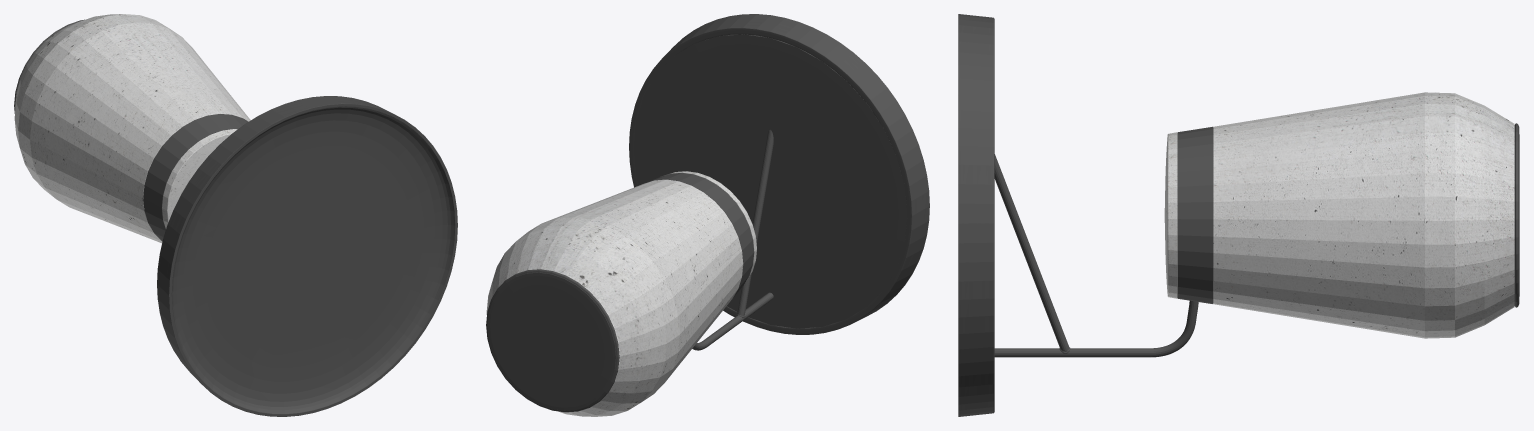
The model's file is sideLamp.glb.
3 views of the same model, side by side, from view 1: azimuth 30°, elevation 25°; view 2: azimuth 150°, elevation 25°; view 3: azimuth 270°, elevation 25° (orthographic). The views are drawn at different scales.
Visible parts, largest first — view 1: Side Table Andrea Ponti N220524; view 2: Side Table Andrea Ponti N220524; view 3: Side Table Andrea Ponti N220524.
Boxes of the visible parts, x1,y1,x2,y2 form: Side Table Andrea Ponti N220524: (14, 14, 457, 416); Side Table Andrea Ponti N220524: (486, 14, 929, 416); Side Table Andrea Ponti N220524: (958, 14, 1519, 416).
Bounding box in the file's own units: 0.3921 × 0.396 × 0.55.
Materials: 2 (1 with a texture image).
